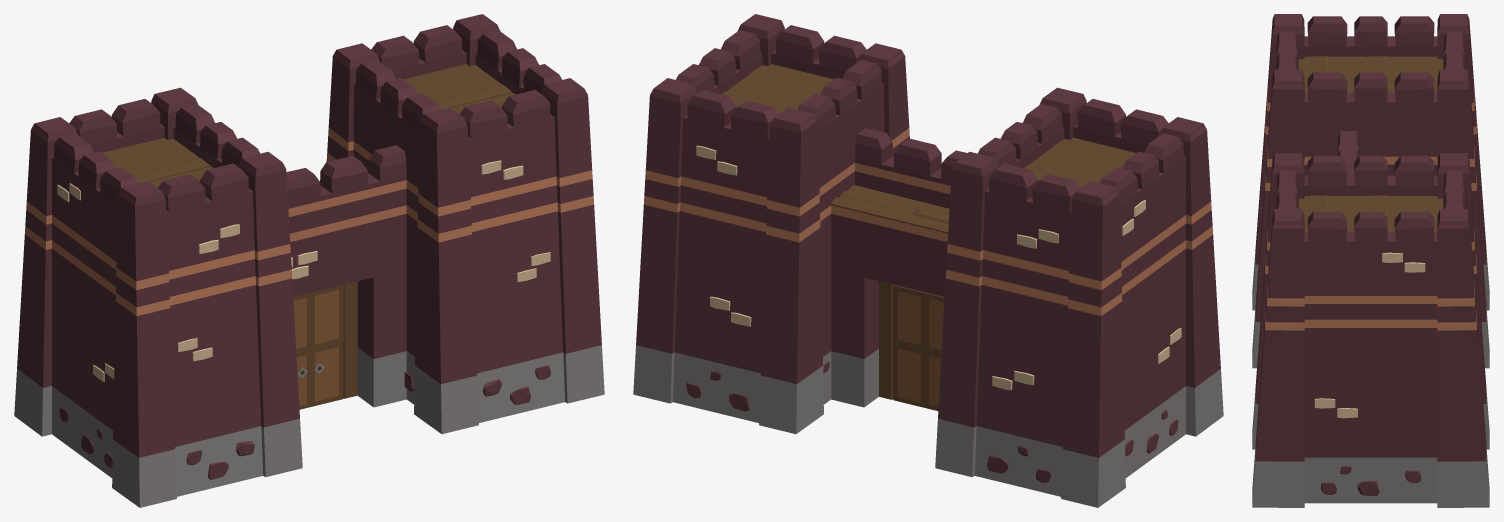
File: empire-gate-fortified-empire.glb
3 renders of one model, left to right at view 1: azimuth 30°, elevation 25°; view 2: azimuth 150°, elevation 25°; view 3: azimuth 270°, elevation 25°, orthographic. The views are drawn at different scales.
Visible parts, largest first — view 1: SM_Gate_Fortified_Empire; view 2: SM_Gate_Fortified_Empire; view 3: SM_Gate_Fortified_Empire.
Boxes of the visible parts, bbox=[...] form: SM_Gate_Fortified_Empire: bbox=[14, 14, 604, 507]; SM_Gate_Fortified_Empire: bbox=[633, 14, 1223, 507]; SM_Gate_Fortified_Empire: bbox=[1252, 14, 1489, 507].
Bounding box in the file's own units: 17.09 × 10.53 × 8.
